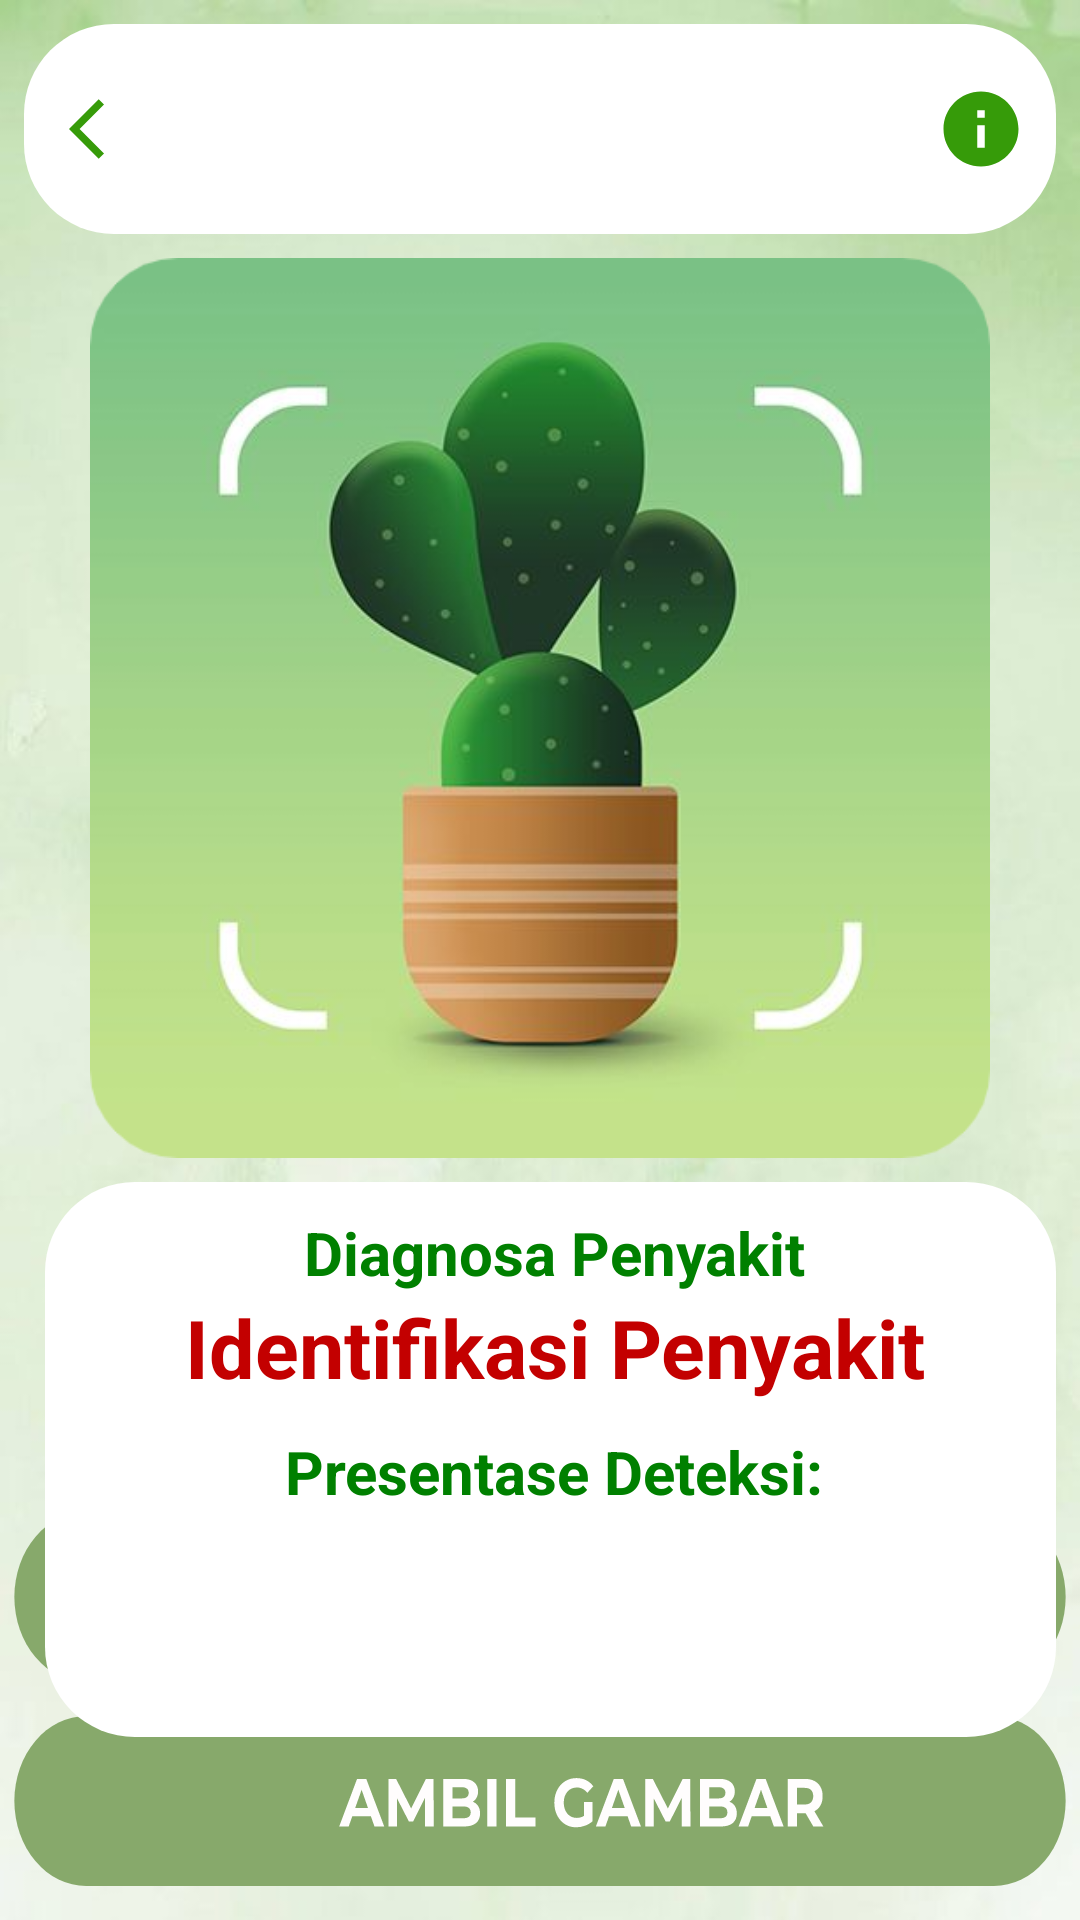

Icon bounding boxes for this 1080*1920 phone screenshot, format (x1, y1, x2, y2):
back: (69, 99, 104, 159)
info: (943, 91, 1019, 167)
